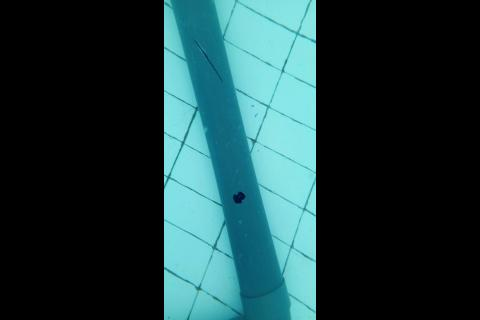kebocoran: (231, 189, 246, 205)
keretakan: (192, 38, 224, 83)
